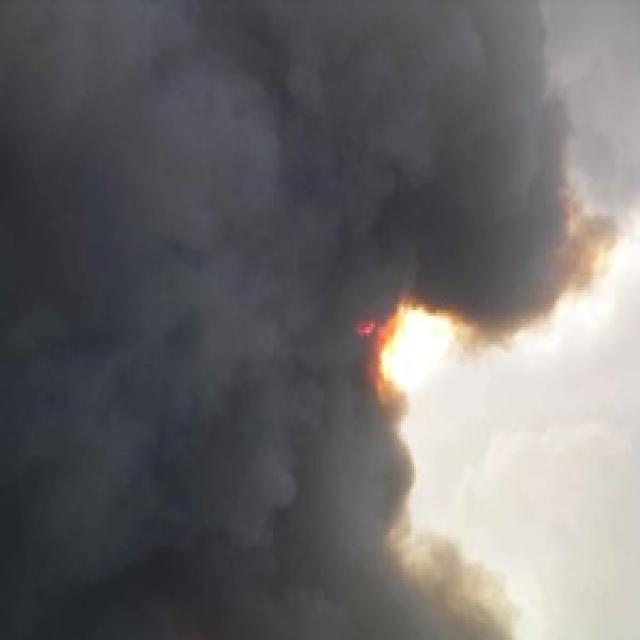Fire: (380, 312, 457, 387)
Smoke: (3, 12, 348, 637), (344, 0, 603, 274), (124, 455, 428, 640)
